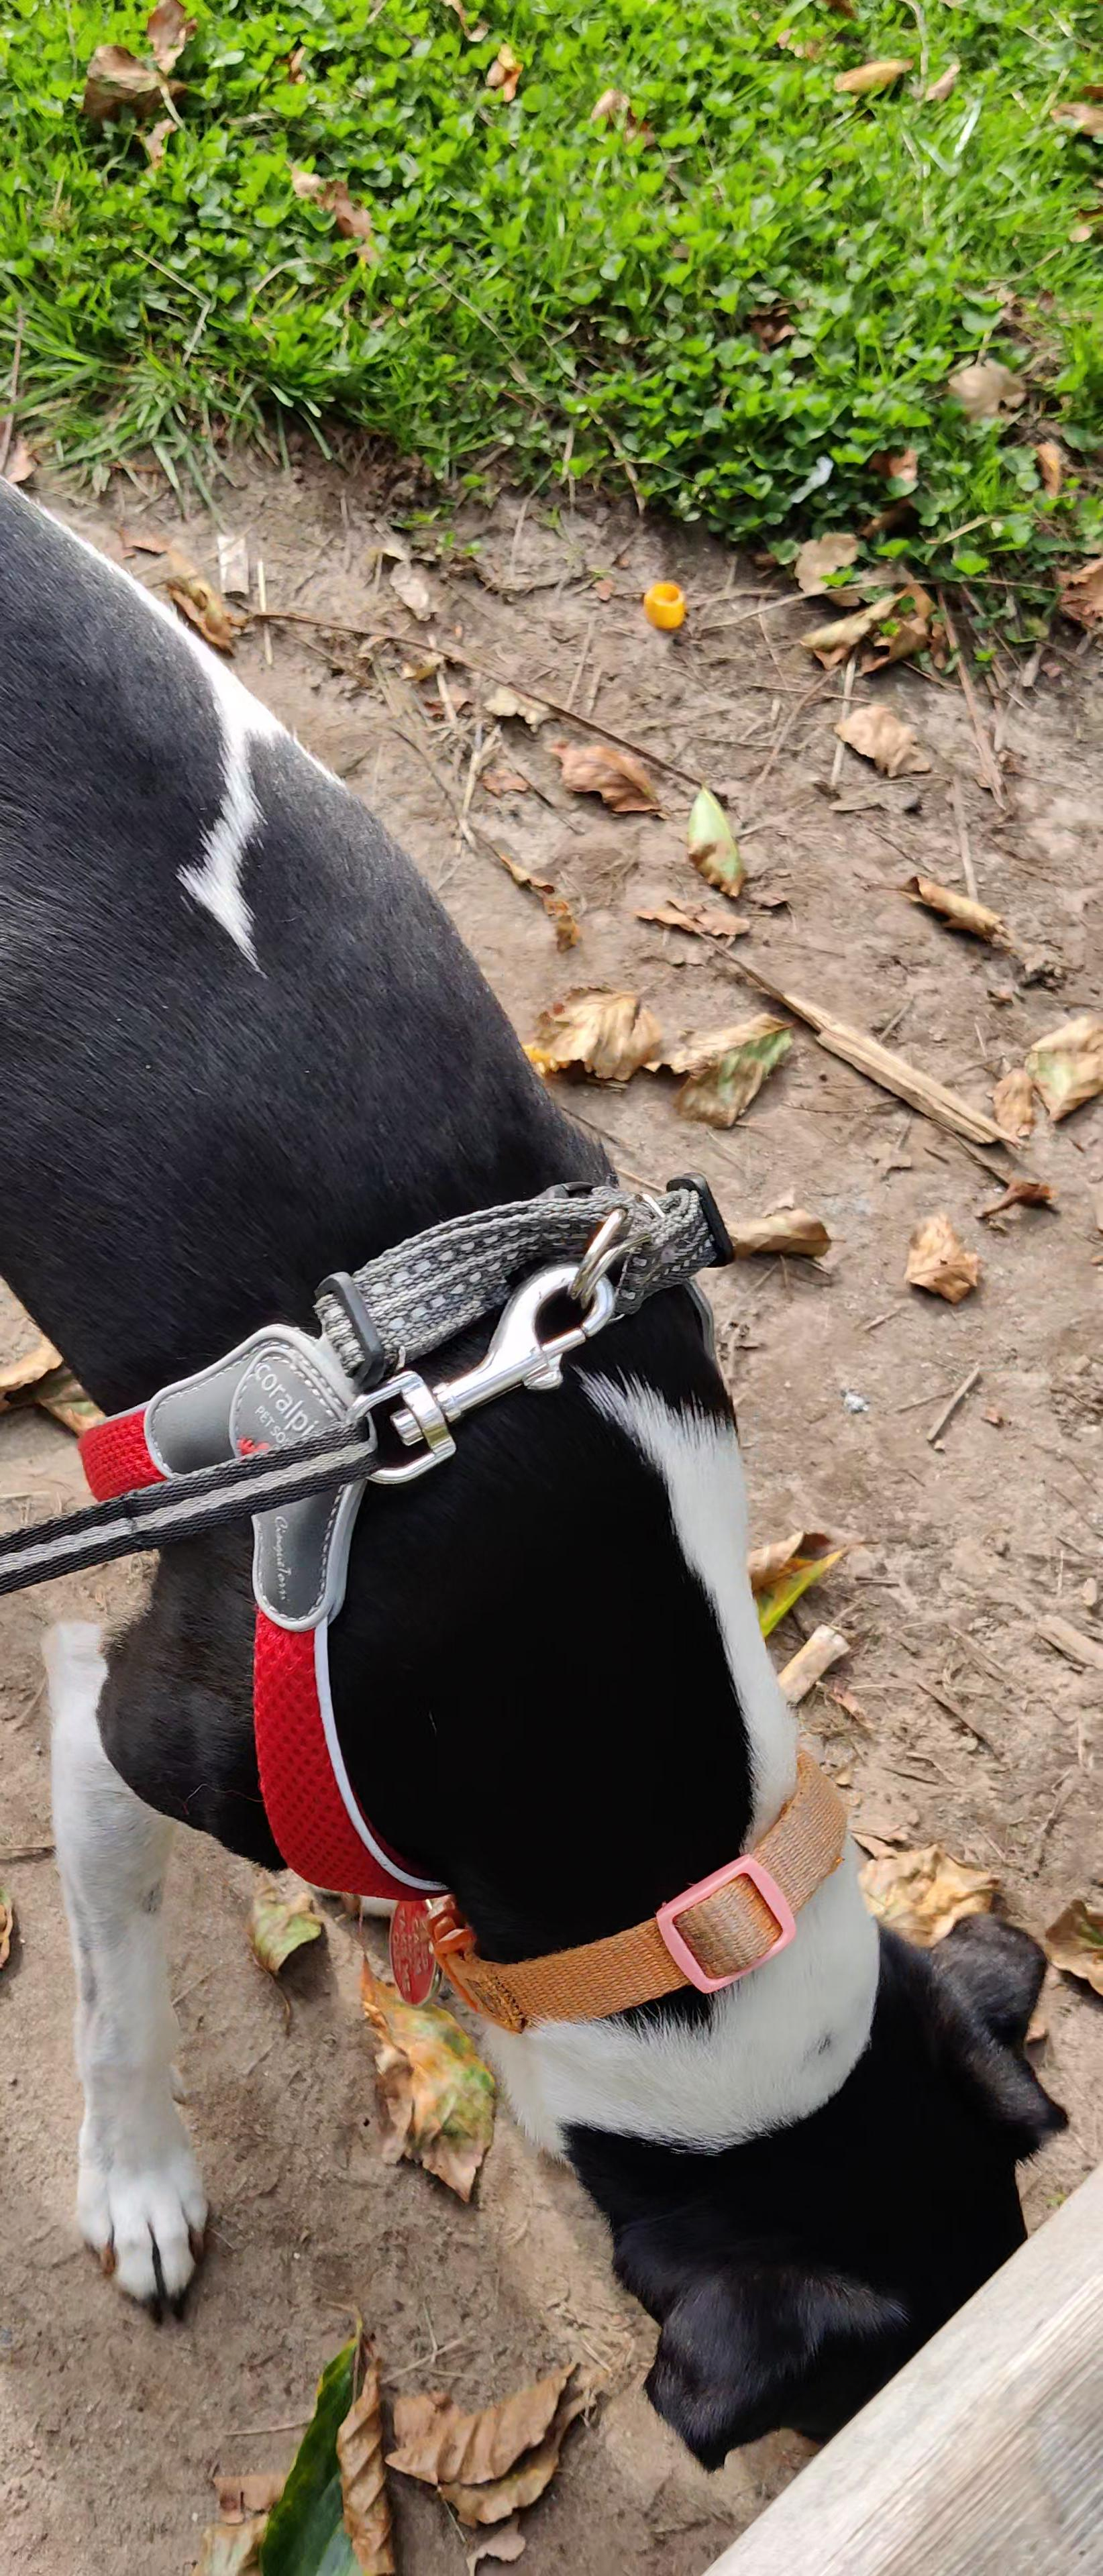Dog: (0, 483, 1062, 2471)
